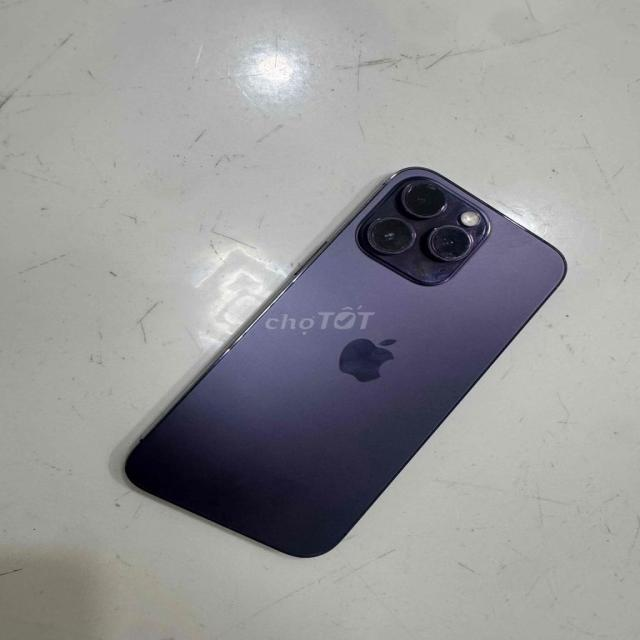scratch: (360, 213, 421, 258), (422, 225, 478, 268), (399, 177, 452, 222), (453, 202, 493, 242), (412, 266, 477, 289)
